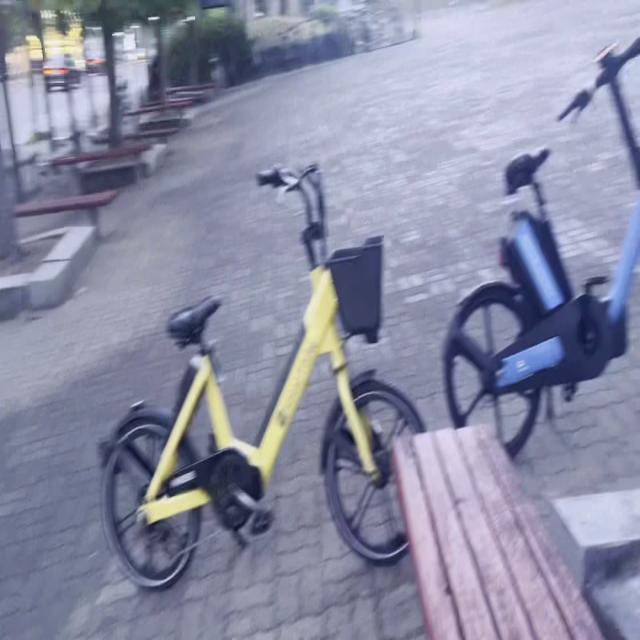ebike_ok: (107, 160, 403, 585)
